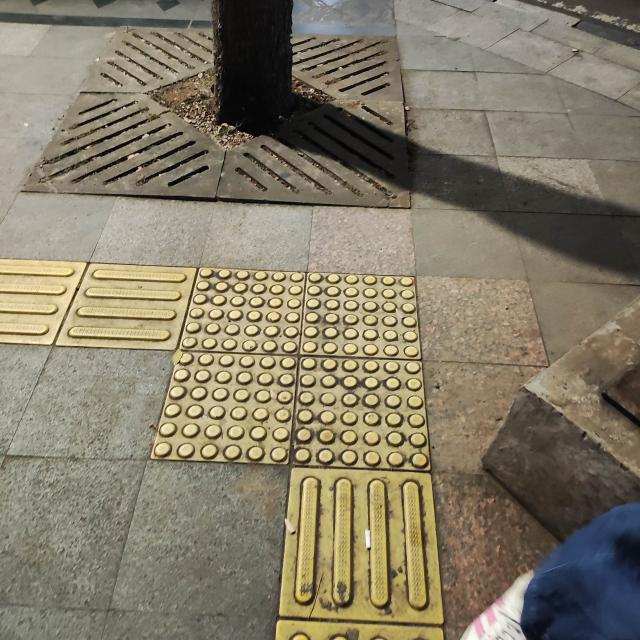kiri: (26, 202, 505, 562)
